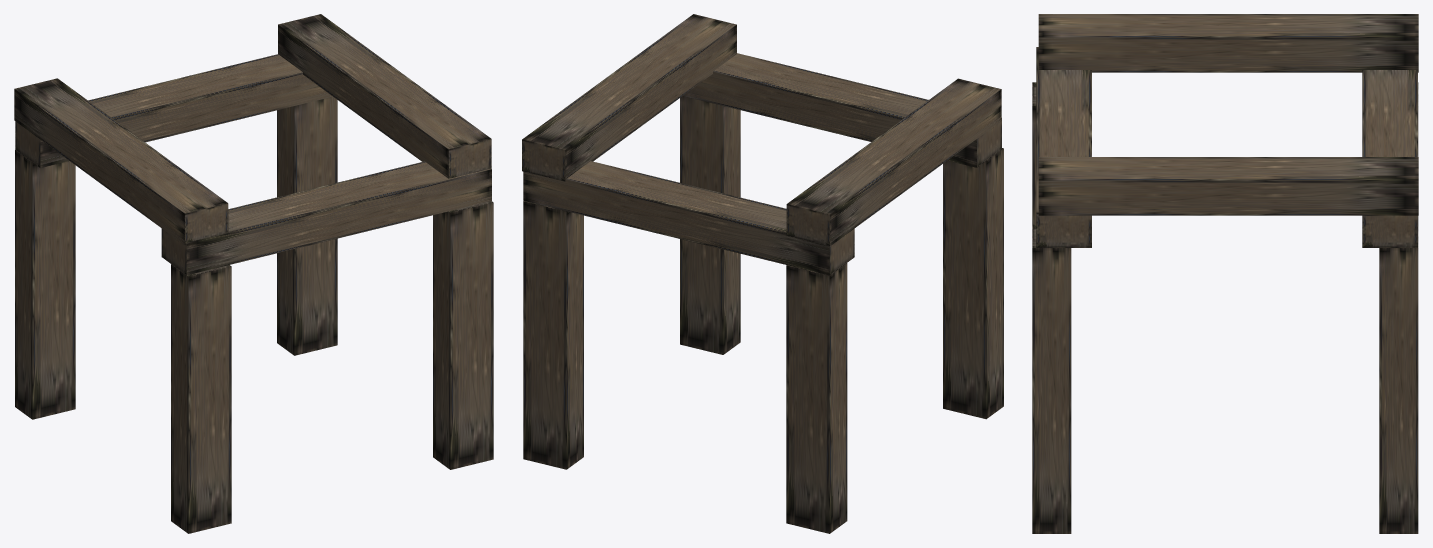
Rendered from Mining_Planks_01.DAE.
3 renders of one model, left to right at view 1: azimuth 30°, elevation 25°; view 2: azimuth 150°, elevation 25°; view 3: azimuth 270°, elevation 25°, orthographic. The views are drawn at different scales.
Visible parts, largest first — view 1: Box004; view 2: Box004; view 3: Box004.
Part boxes in pixels (x1=…): Box004: x1=14, y1=14, x2=493, y2=533; Box004: x1=522, y1=14, x2=1003, y2=533; Box004: x1=1032, y1=14, x2=1418, y2=533.
Size of the model in its own units: 27.13 by 26.9 by 26.6.
